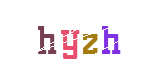H: (25, 0, 105, 80), (70, 0, 150, 80)
Y: (30, 0, 110, 80)
Z: (40, 0, 120, 80)
